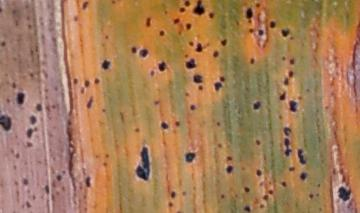tarspot: (133, 143, 152, 182), (335, 185, 353, 202), (1, 112, 13, 135), (295, 147, 307, 165), (192, 1, 206, 16), (282, 137, 292, 157), (244, 7, 255, 25), (183, 151, 197, 165), (25, 125, 38, 140), (85, 94, 95, 111), (184, 57, 197, 70), (137, 47, 149, 61), (15, 92, 26, 107), (279, 26, 291, 39), (192, 72, 204, 85), (212, 81, 225, 93), (156, 59, 167, 73), (287, 99, 297, 113), (251, 100, 262, 112), (100, 58, 110, 71), (286, 164, 299, 174), (281, 125, 292, 136), (159, 120, 169, 132), (27, 114, 39, 124), (194, 41, 203, 53), (80, 1, 89, 13), (150, 97, 162, 106), (84, 175, 92, 188), (253, 167, 263, 177), (188, 102, 198, 112), (171, 16, 181, 26), (34, 101, 43, 112), (144, 15, 151, 29), (278, 91, 287, 101), (242, 204, 252, 213), (20, 177, 30, 186), (298, 171, 307, 181), (225, 164, 233, 175), (184, 21, 192, 32), (148, 68, 156, 79), (43, 183, 51, 194), (219, 37, 228, 46), (268, 19, 276, 29), (211, 49, 219, 59), (287, 69, 295, 79), (218, 74, 226, 84), (93, 77, 101, 87), (283, 75, 289, 88), (206, 11, 214, 20), (253, 137, 261, 146), (243, 185, 251, 194), (129, 46, 137, 55), (83, 79, 91, 88), (224, 155, 233, 163), (24, 199, 32, 208), (261, 193, 269, 202), (288, 56, 295, 66), (10, 79, 17, 89), (157, 29, 165, 37), (248, 57, 256, 65), (246, 27, 254, 35), (71, 77, 79, 85), (186, 40, 194, 48), (132, 126, 140, 134), (169, 190, 176, 199), (183, 1, 192, 8), (177, 6, 186, 13), (72, 14, 79, 23), (25, 141, 34, 148), (276, 113, 283, 122), (280, 54, 287, 63), (1, 38, 7, 48), (307, 190, 313, 200), (257, 29, 264, 37), (197, 84, 204, 92), (254, 1, 261, 9), (266, 189, 274, 196), (4, 96, 11, 104), (173, 120, 180, 127), (54, 174, 61, 181), (280, 180, 287, 187), (79, 86, 85, 94), (183, 90, 189, 98), (14, 150, 20, 158), (176, 28, 182, 36), (219, 193, 225, 200), (216, 142, 222, 149), (214, 120, 220, 127), (102, 34, 109, 40), (100, 107, 107, 113), (103, 153, 110, 159), (101, 161, 108, 167), (257, 203, 264, 209), (167, 201, 173, 207), (162, 9, 167, 15), (109, 1, 116, 5), (174, 210, 183, 213), (1, 5, 3, 16)
